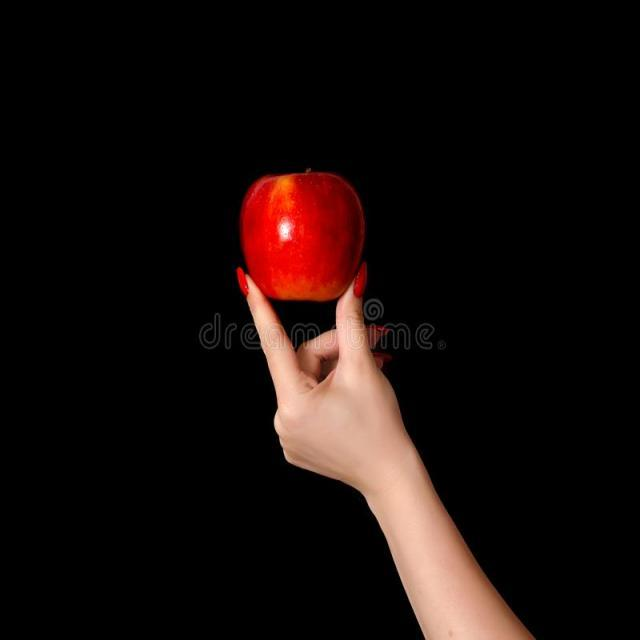Fresh Apple: (228, 162, 382, 313)
